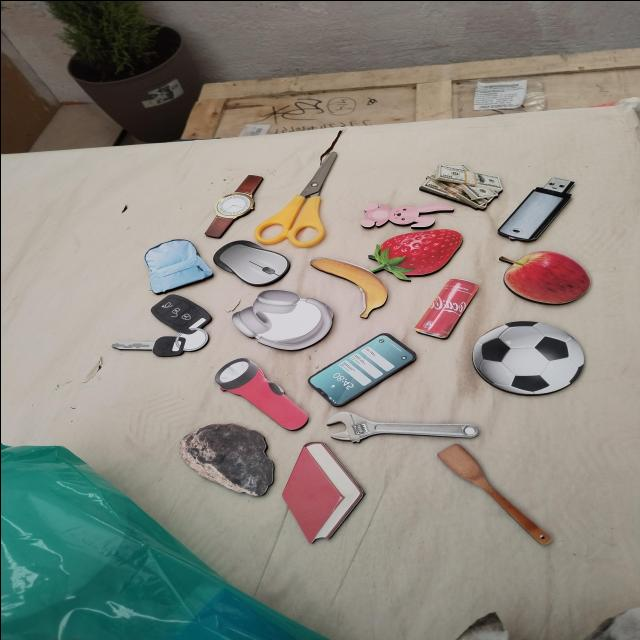Other Objects: (434, 441, 555, 552), (461, 311, 594, 403), (110, 288, 228, 380), (253, 128, 344, 247), (224, 274, 345, 363), (205, 352, 316, 441), (304, 328, 419, 408), (178, 421, 275, 496), (494, 170, 582, 248), (206, 229, 296, 293), (324, 410, 479, 447), (131, 233, 215, 294), (501, 249, 591, 304), (309, 257, 387, 318), (413, 277, 479, 338), (418, 162, 503, 209), (203, 173, 263, 238), (360, 201, 453, 228)
